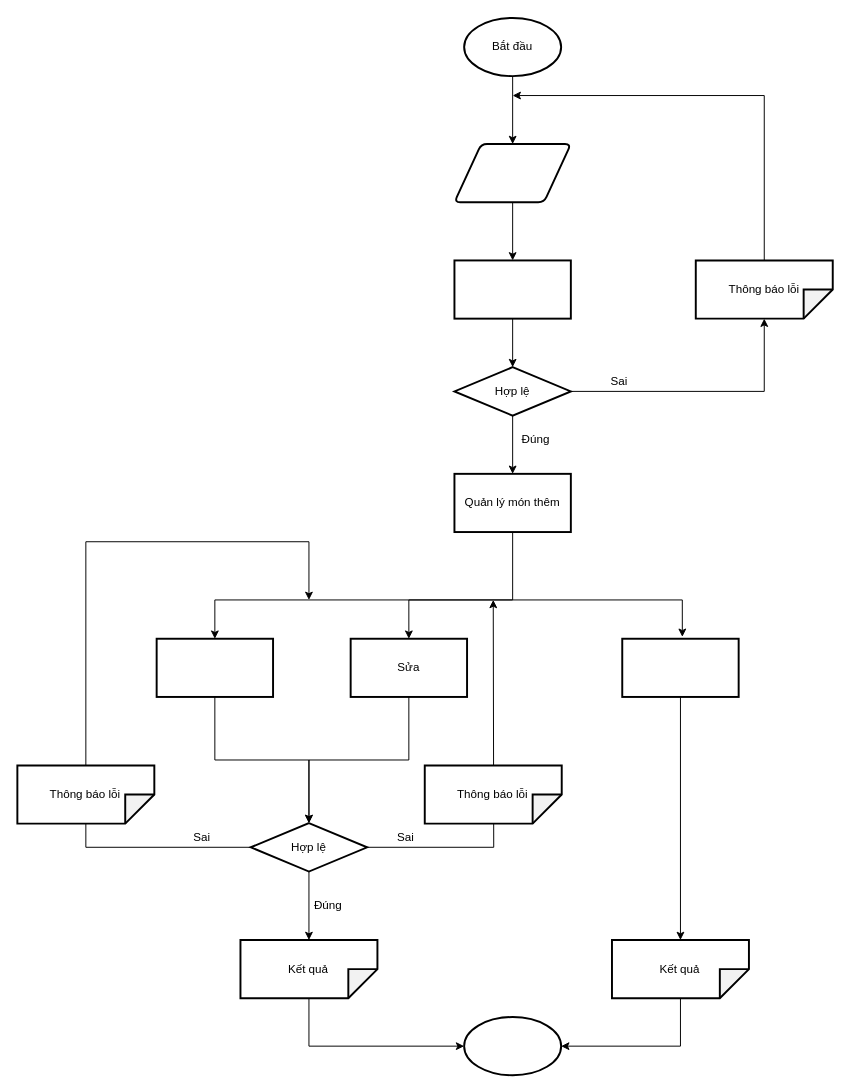
Image size: 851x1092. Some labels were removed from this diagram. The shapes that lost their labels are listed below. From the top down, each one's box as (x1, y1, x2, y2) in pixels, then its label:
(453, 143, 571, 203): Username và password
(453, 259, 571, 319): Kiểm tra tính hợp lệ của tài khoản
(155, 637, 274, 697): Thêm
(621, 637, 739, 697): Tìm kiếm
(463, 1016, 562, 1076): Kết thúc
